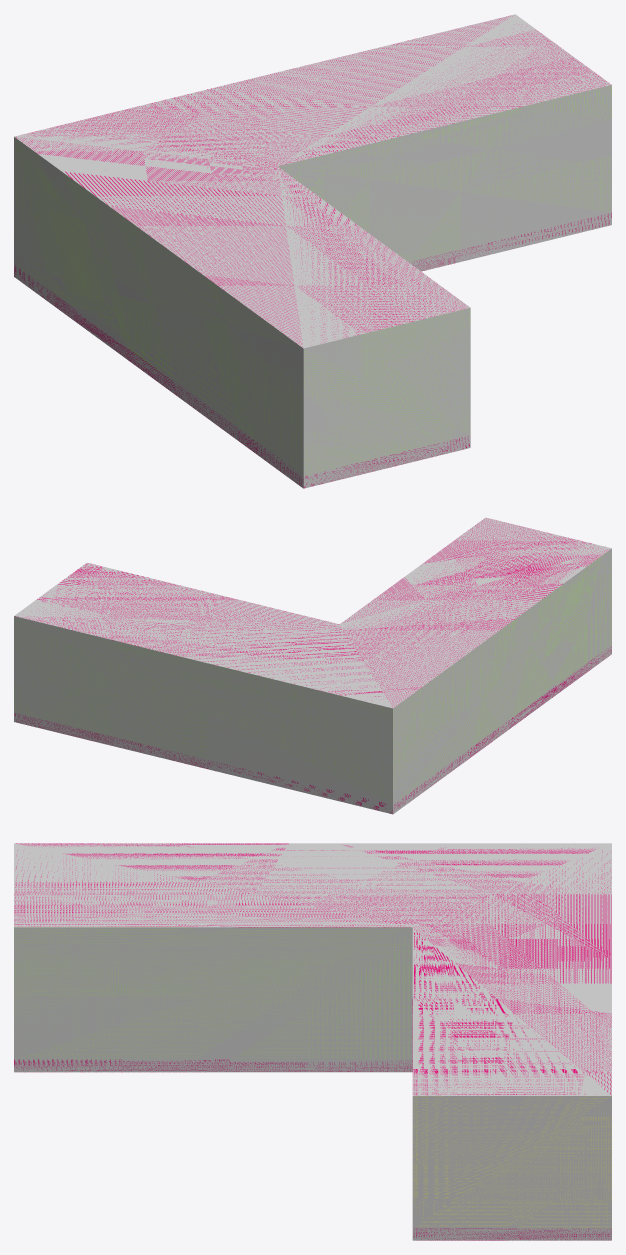
The model's file is building3.dae.
3 views of the same model, one above another, from view 1: azimuth 30°, elevation 25°; view 2: azimuth 150°, elevation 25°; view 3: azimuth 270°, elevation 25° (orthographic). The views are drawn at different scales.
Visible parts, largest first — view 1: group_0 (×3); view 2: group_0 (×3); view 3: group_0 (×4).
Boxes of the visible parts, box(x1,y1,x2,y2) form: group_0 (×3): box(14, 14, 611, 488); group_0 (×3): box(14, 517, 611, 814); group_0 (×4): box(14, 843, 611, 1240).
Bounding box in the file's own units: 84 × 84 × 22.44.
